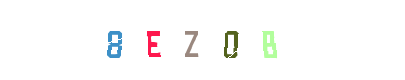0: (191, 0, 271, 80)
8: (74, 0, 154, 80)
B: (197, 0, 277, 80)
E: (112, 0, 192, 80)
Z: (162, 0, 242, 80)
